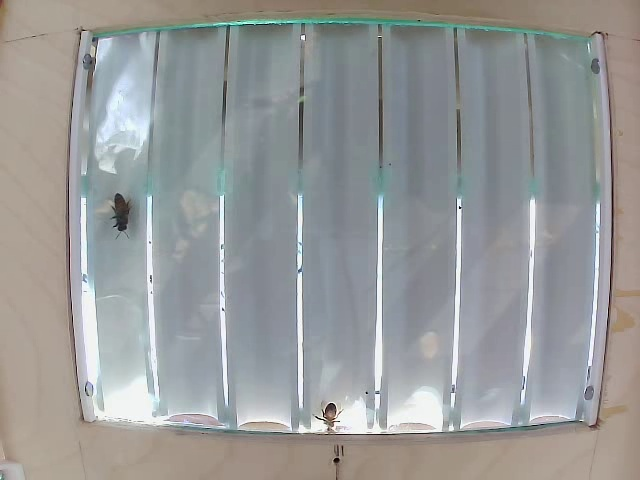bee: (102, 189, 136, 235), (317, 394, 351, 433)
